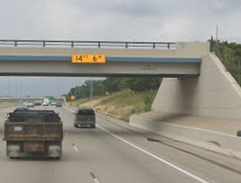1: (74, 54, 79, 63)
4: (76, 54, 84, 63)
6: (91, 54, 99, 63)
overheadsign: (70, 53, 107, 64)
